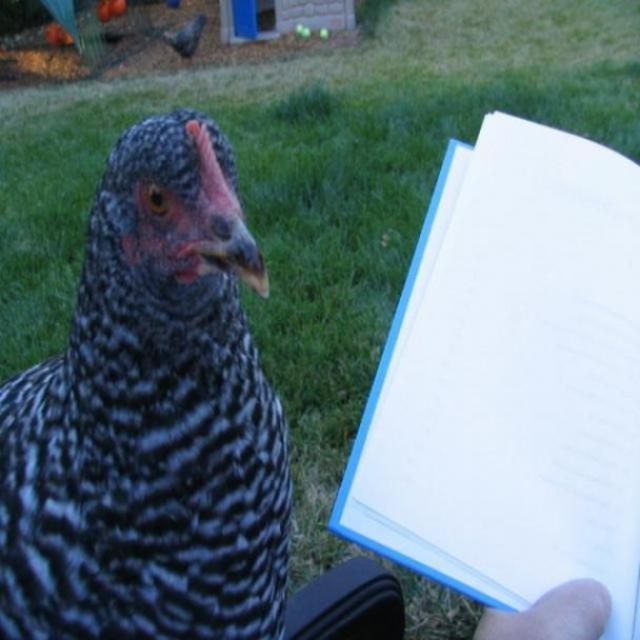Chicken: (0, 106, 294, 639), (158, 4, 209, 69)
